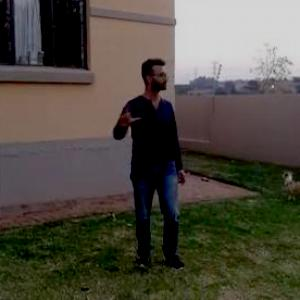land_hand: (117, 98, 144, 132)
